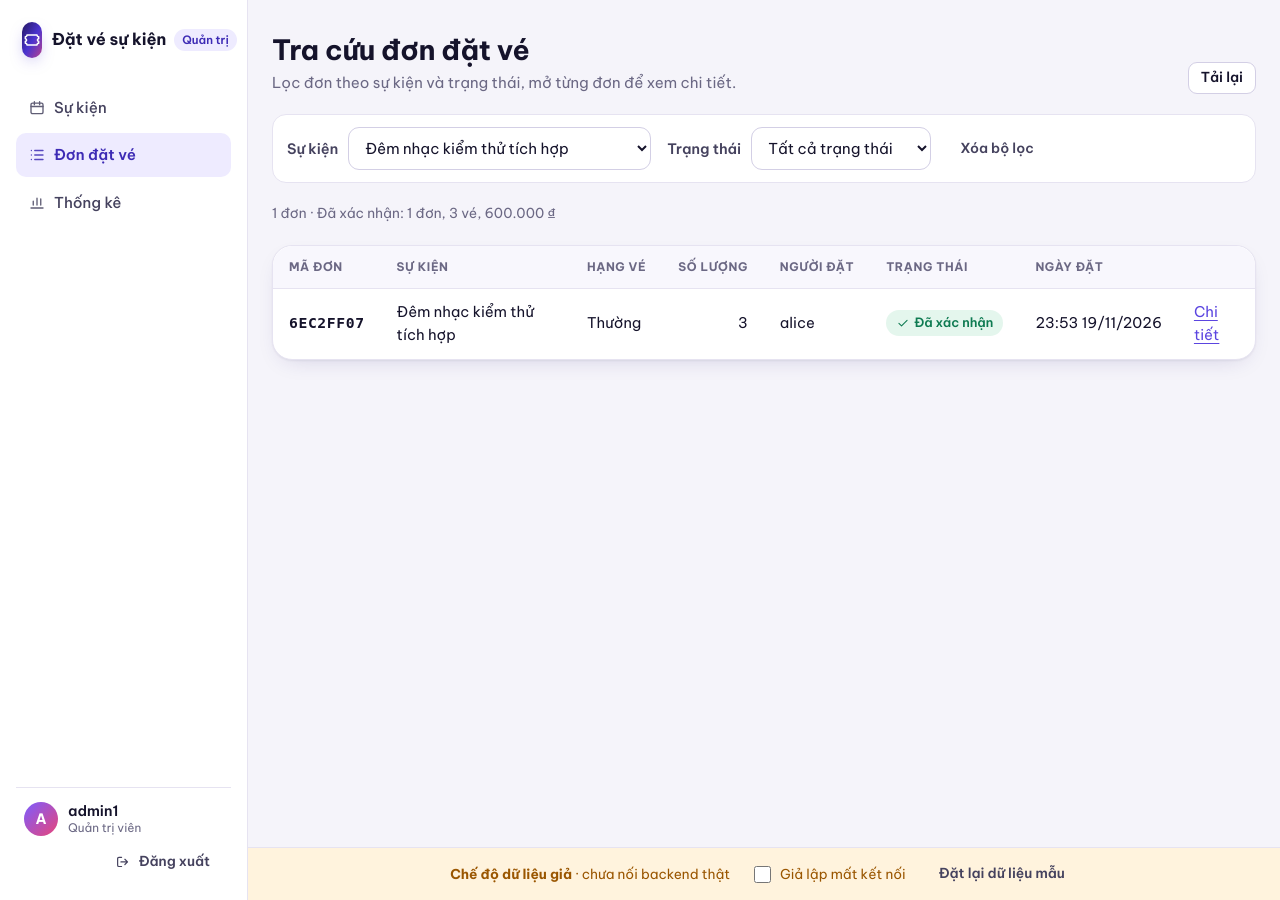
tra cứu đơn và thống kê › luồng đầy đủ: tạo sự kiện → hạng vé → khách đặt → quản trị thấy đơn và thống kê
Click the link "Thống kê" at (75, 202), box [28,192,122,212]
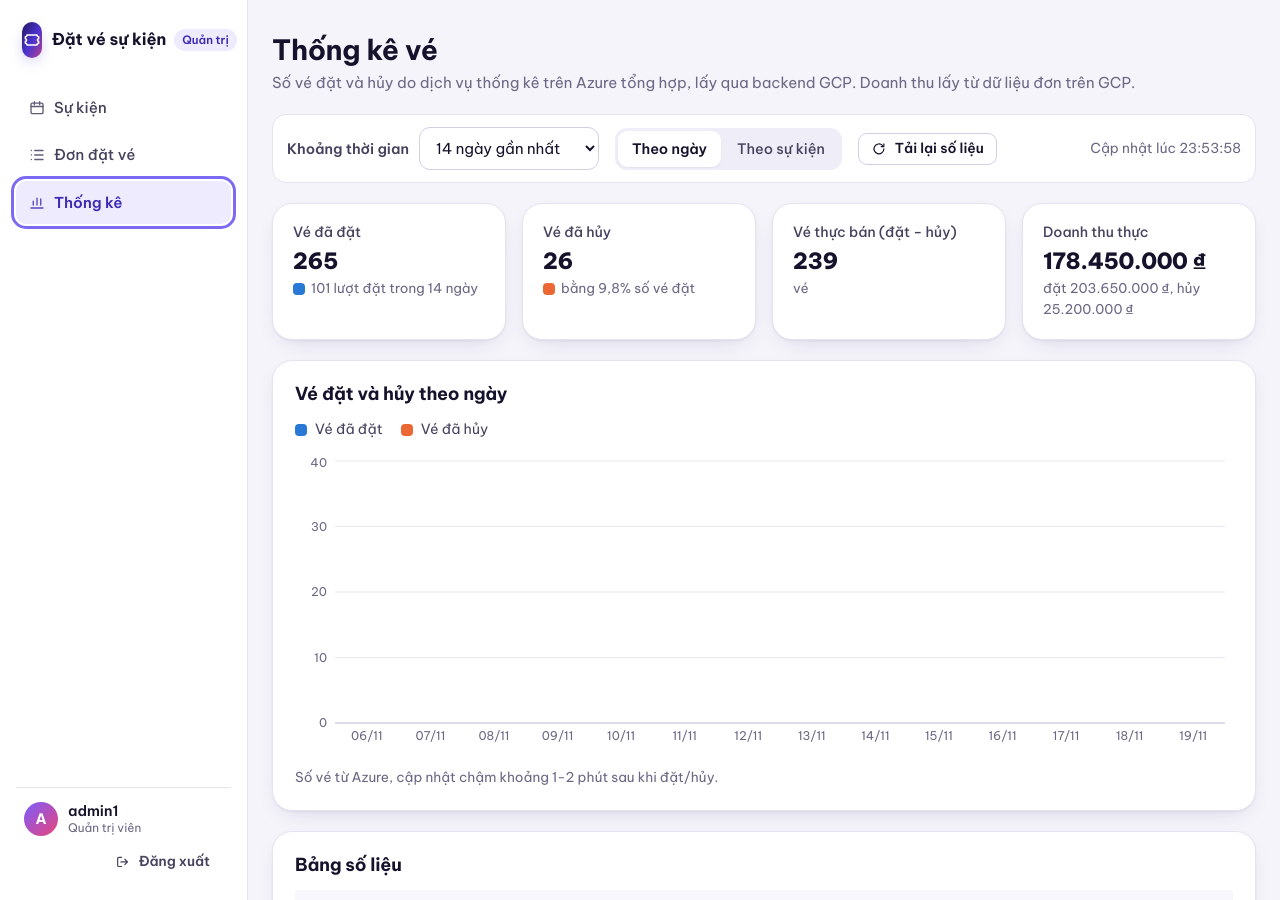
expect the heading "Thống kê vé" is shown: met, box [272,32,438,67]
Click the button "Theo sự kiện" at (781, 149), box [723,131,839,167]
(page scrolled)
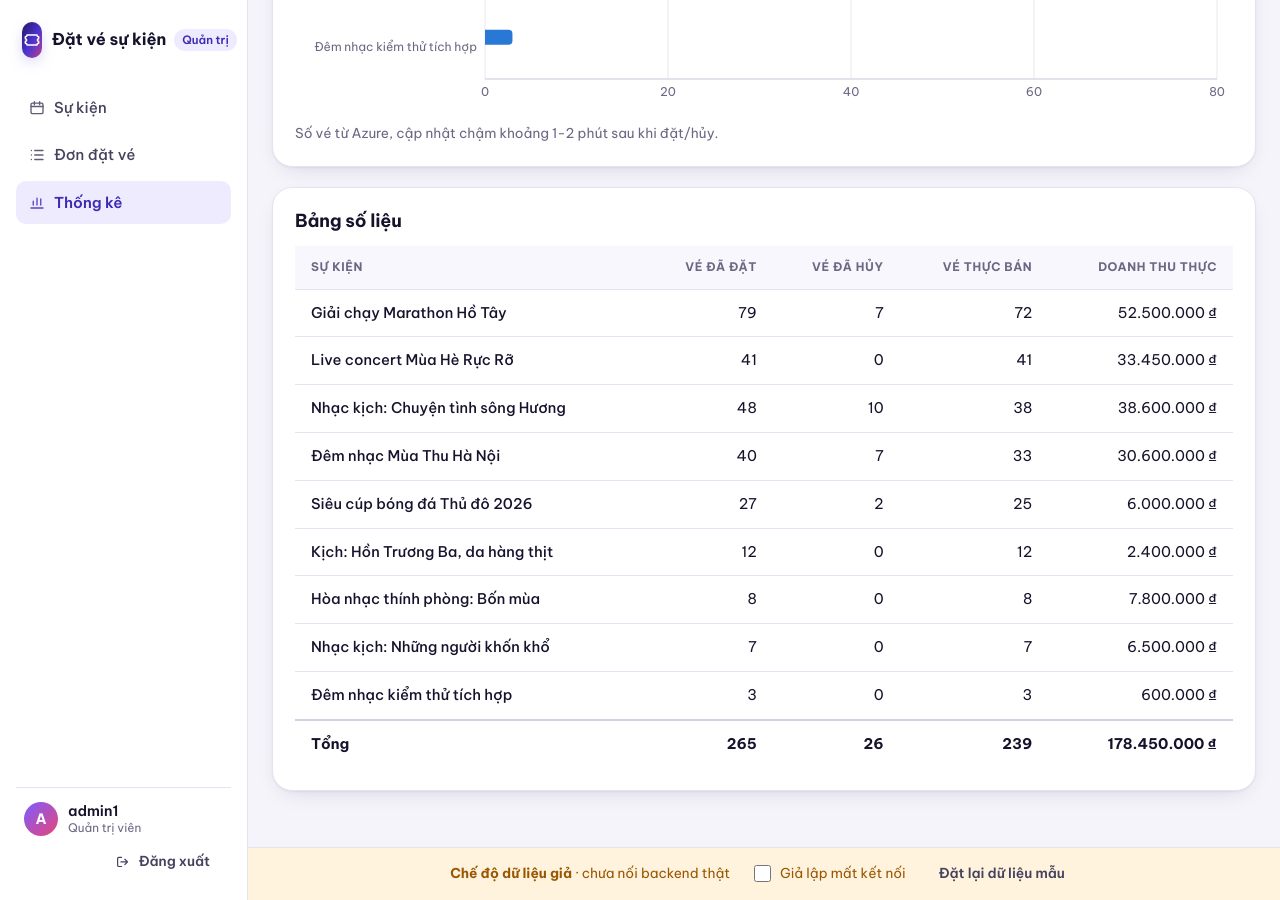
expect the 1st cell "3" is shown: met, box [646,672,773,719]
expect the cell "600.000 ₫" is shown: met, box [1048,672,1233,719]
